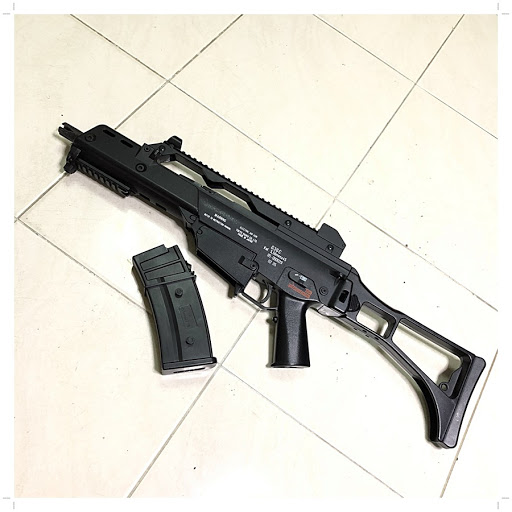gun: (46, 111, 497, 460)
